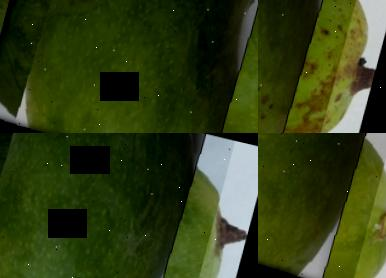Unripe: (0, 133, 238, 278), (0, 0, 258, 133), (258, 133, 386, 278), (258, 0, 366, 133)
